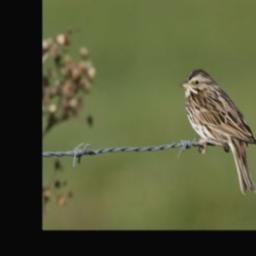Sparrow: (180, 67, 256, 197)
